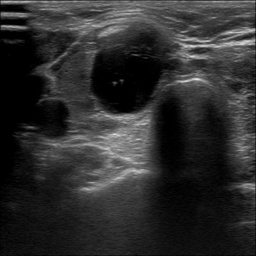mass: (89, 28, 164, 115)
